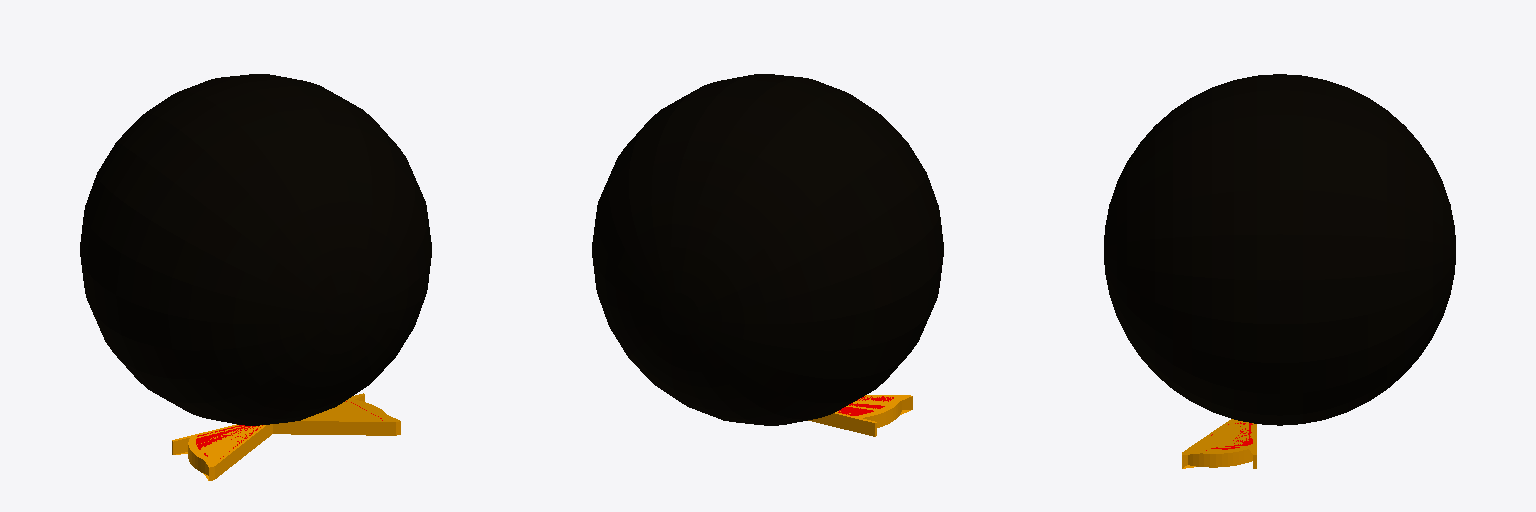
3 views of the same model, side by side, from view 1: azimuth 30°, elevation 25°; view 2: azimuth 150°, elevation 25°; view 3: azimuth 270°, elevation 25° (orthographic).
Visible parts, largest first — view 1: Mesh1 Group1 Model, Mesh2 Group1 Model; view 2: Mesh1 Group1 Model, Mesh2 Group1 Model; view 3: Mesh1 Group1 Model, Mesh2 Group1 Model.
Boxes of the visible parts, box(x1,y1,x2,y2) form: Mesh1 Group1 Model: box(80, 74, 431, 425); Mesh2 Group1 Model: box(172, 393, 400, 480); Mesh1 Group1 Model: box(592, 74, 943, 425); Mesh2 Group1 Model: box(808, 395, 912, 436); Mesh1 Group1 Model: box(1104, 74, 1455, 425); Mesh2 Group1 Model: box(1182, 419, 1256, 468).
Bounding box in the file's own units: 4.64 × 4.82 × 4.64.
Materials: 5 (5 with a texture image).